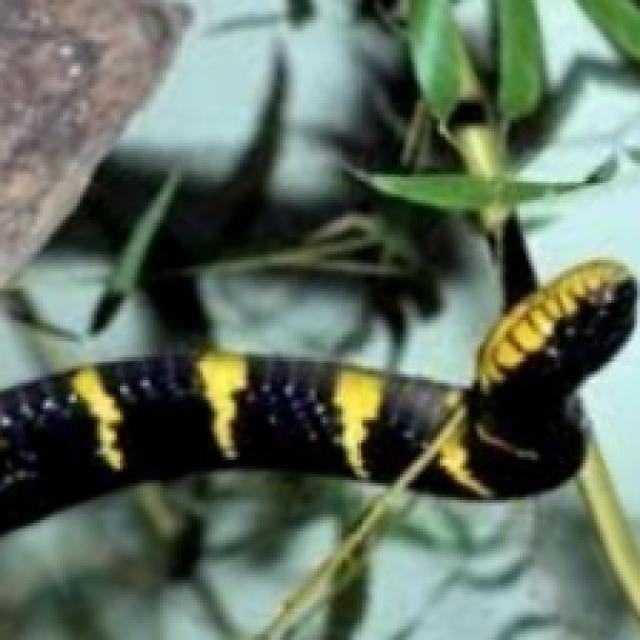mangrove cat snake: (0, 260, 634, 529), (0, 351, 451, 529), (414, 260, 634, 497)
